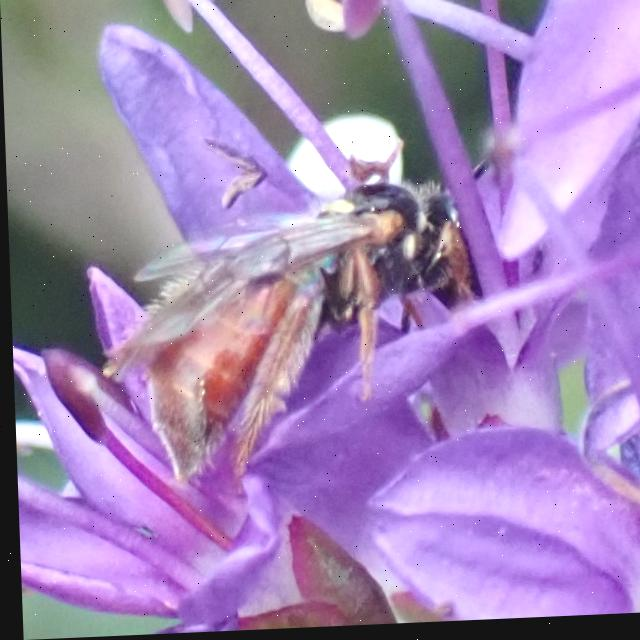Allodapula: (95, 134, 495, 485)
